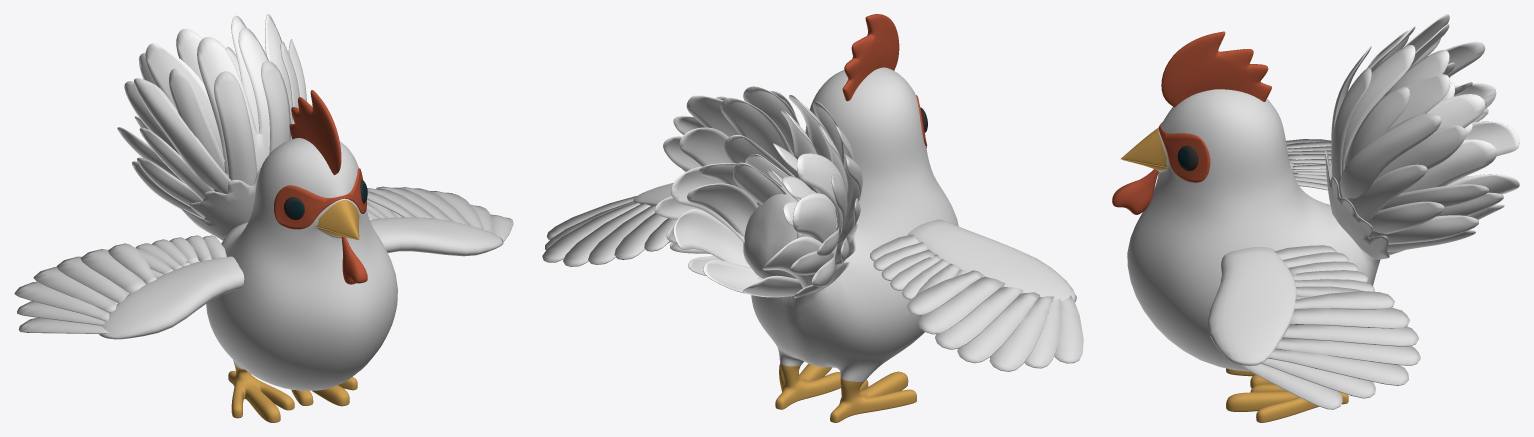
The model's file is Cucco.fbx.
3 views of the same model, side by side, from view 1: azimuth 30°, elevation 25°; view 2: azimuth 150°, elevation 25°; view 3: azimuth 270°, elevation 25° (orthographic). The views are drawn at different scales.
Visible parts, largest first — view 1: Cucco_body, Cucco_butt, Feathers, Cucco_wingspread, Cucco_eye; view 2: Cucco_body, Cucco_butt, Feathers, Cucco_wingspread; view 3: Cucco_body, Cucco_butt, Feathers, Cucco_wingspread, Cucco_eye.
Boxes of the visible parts, x1,y1,x2,y2 form: Cucco_body: (206,90,397,422); Cucco_butt: (117,14,306,240); Feathers: (14,186,513,333); Cucco_wingspread: (99,217,503,339); Cucco_eye: (284,180,367,220); Cucco_body: (743,14,958,422); Cucco_butt: (654,86,862,298); Feathers: (542,196,1083,371); Cucco_wingspread: (633,182,1076,301); Cucco_body: (1112,31,1380,422); Cucco_butt: (1325,14,1519,259); Feathers: (1239,139,1420,409); Cucco_wingspread: (1207,162,1297,365); Cucco_eye: (1177,145,1198,171).
Bounding box in the file's own units: 826 × 529 × 542.
